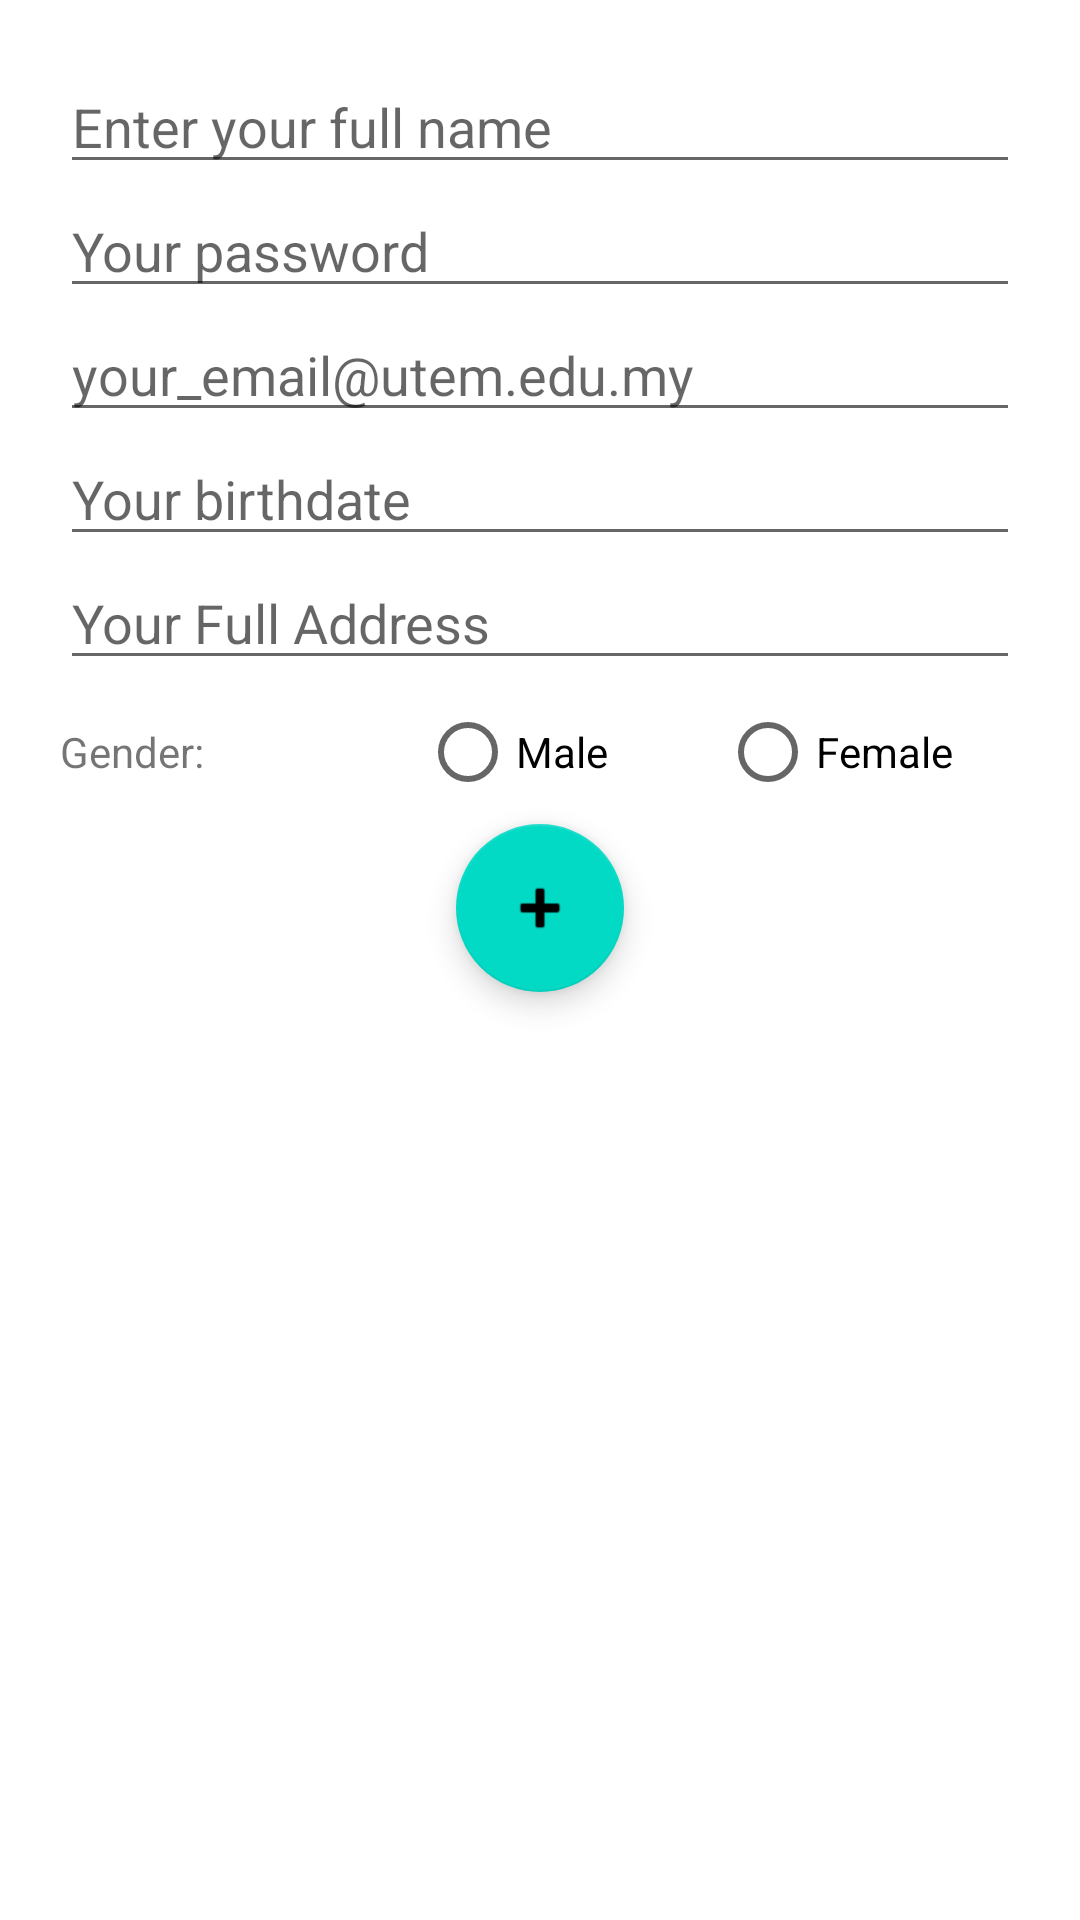

Where icons sit on this 1080*1920 app screen, as box=[x1, y1, x2, y2]:
add: box=[456, 824, 624, 992]
